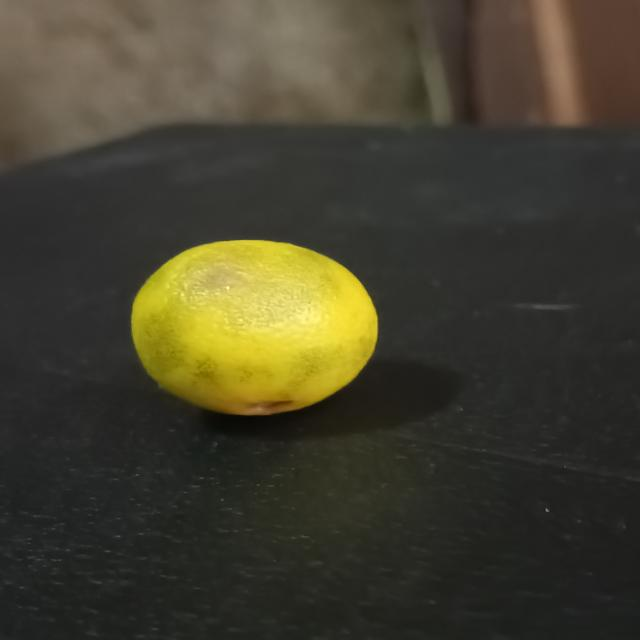greening: (126, 239, 380, 416)
